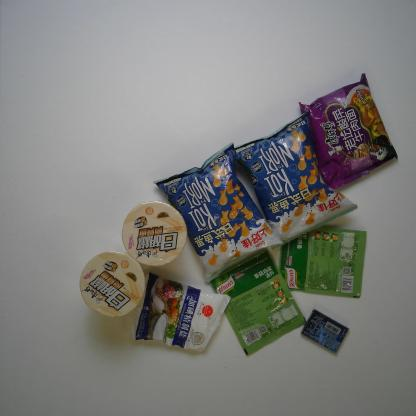Gum: (300, 308, 350, 354)
Instant Noodles: (298, 72, 400, 187), (78, 249, 147, 320), (121, 199, 188, 268)
Puffed Food: (150, 142, 284, 288), (236, 111, 359, 251)
Seasoner: (208, 247, 308, 359), (134, 270, 232, 353), (279, 226, 368, 298)
